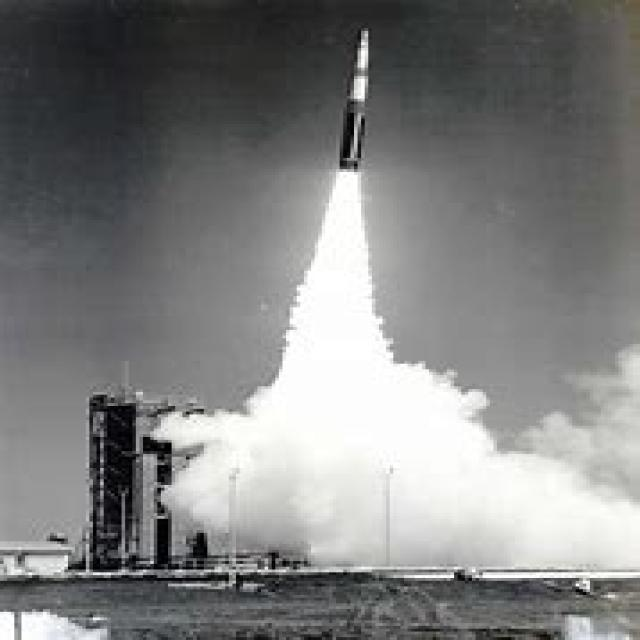missile: (337, 29, 386, 184)
